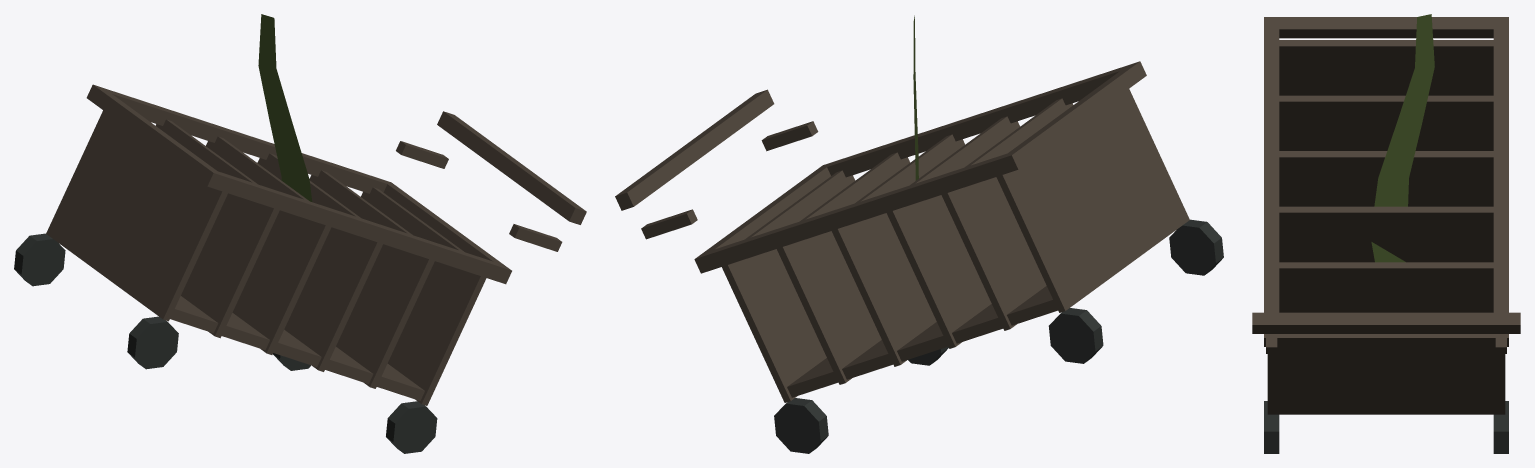
The model's file is relic_cart.glb.
3 renders of one model, left to right at view 1: azimuth 30°, elevation 25°; view 2: azimuth 150°, elevation 25°; view 3: azimuth 270°, elevation 25°, orthographic. The views are drawn at different scales.
Parts seen in each view (by area): view 1: relic_cart; view 2: relic_cart; view 3: relic_cart.
Boxes of the visible parts, box(x1,y1,x2,y2) form: relic_cart: box(14, 14, 586, 453); relic_cart: box(615, 15, 1223, 453); relic_cart: box(1252, 14, 1520, 453).
Size of the model in its own units: 1.36 by 1.16 by 0.7.
